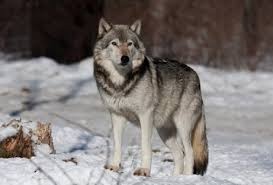Lobo: (88, 14, 214, 174)
